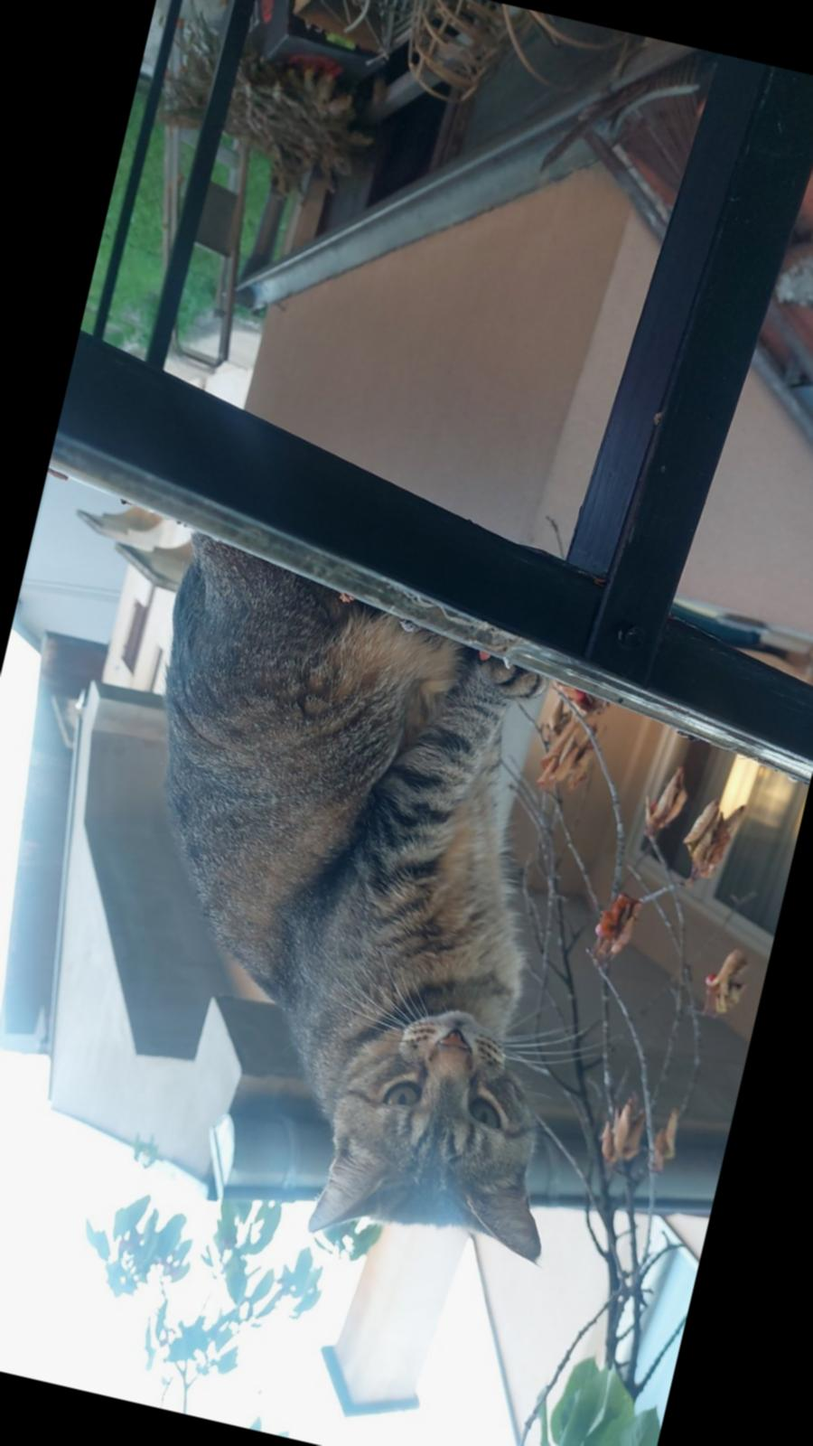macka: (40, 522, 689, 1285)
